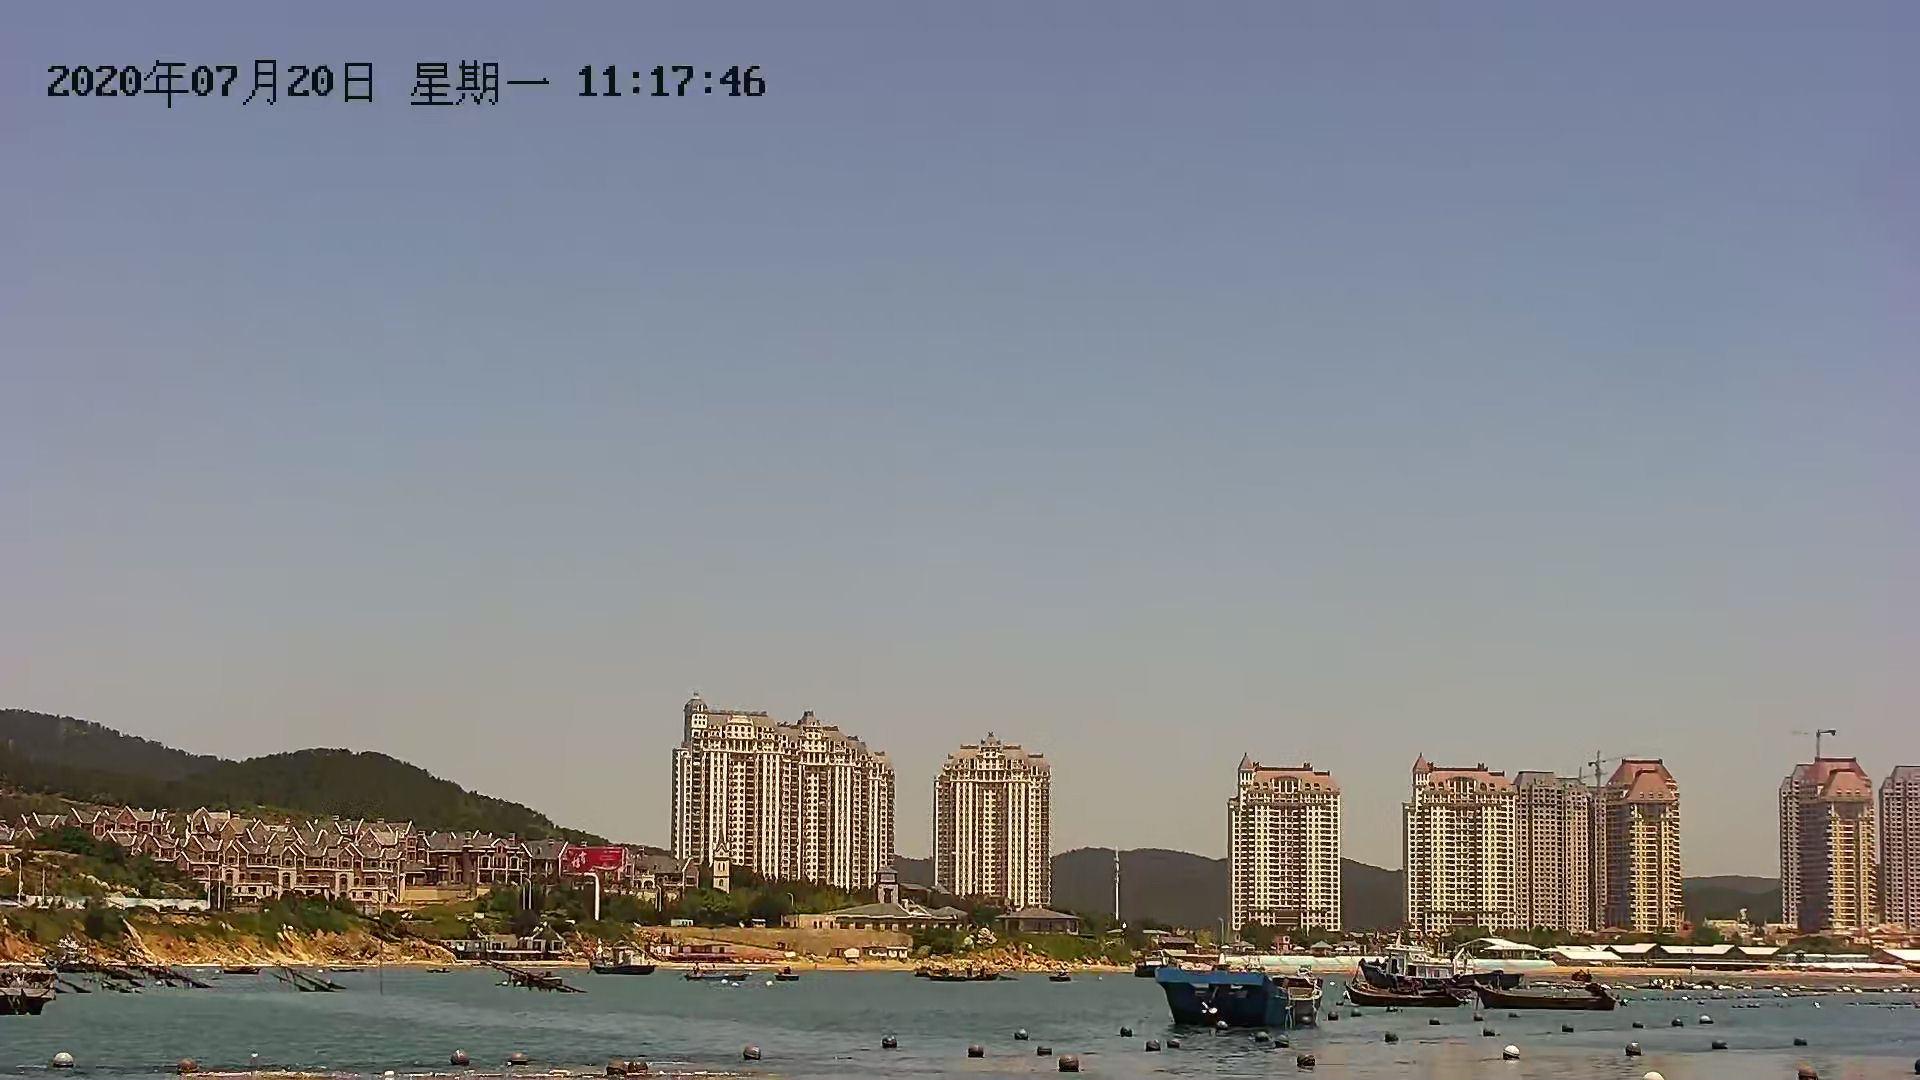ball: (1495, 1038, 1522, 1063), (1054, 1055, 1084, 1076), (1294, 1048, 1323, 1069), (1617, 1036, 1647, 1056), (1381, 1029, 1410, 1047), (742, 1040, 769, 1060), (963, 1042, 990, 1060), (1791, 1065, 1825, 1080)
boat: (1155, 942, 1338, 1035), (1478, 960, 1634, 1015), (587, 945, 662, 982)
ship: (1346, 935, 1462, 1019)
